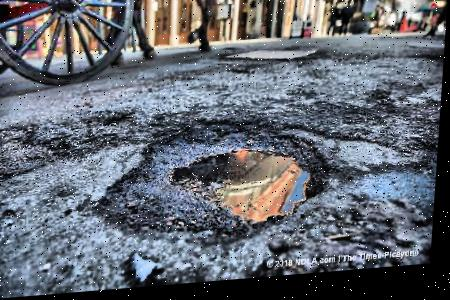pothole: (89, 110, 340, 255)
